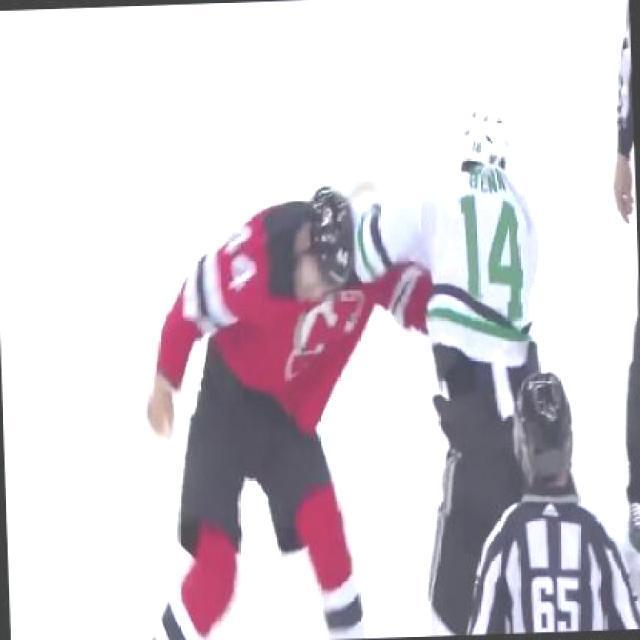fight: (138, 183, 490, 639), (240, 100, 549, 543)
